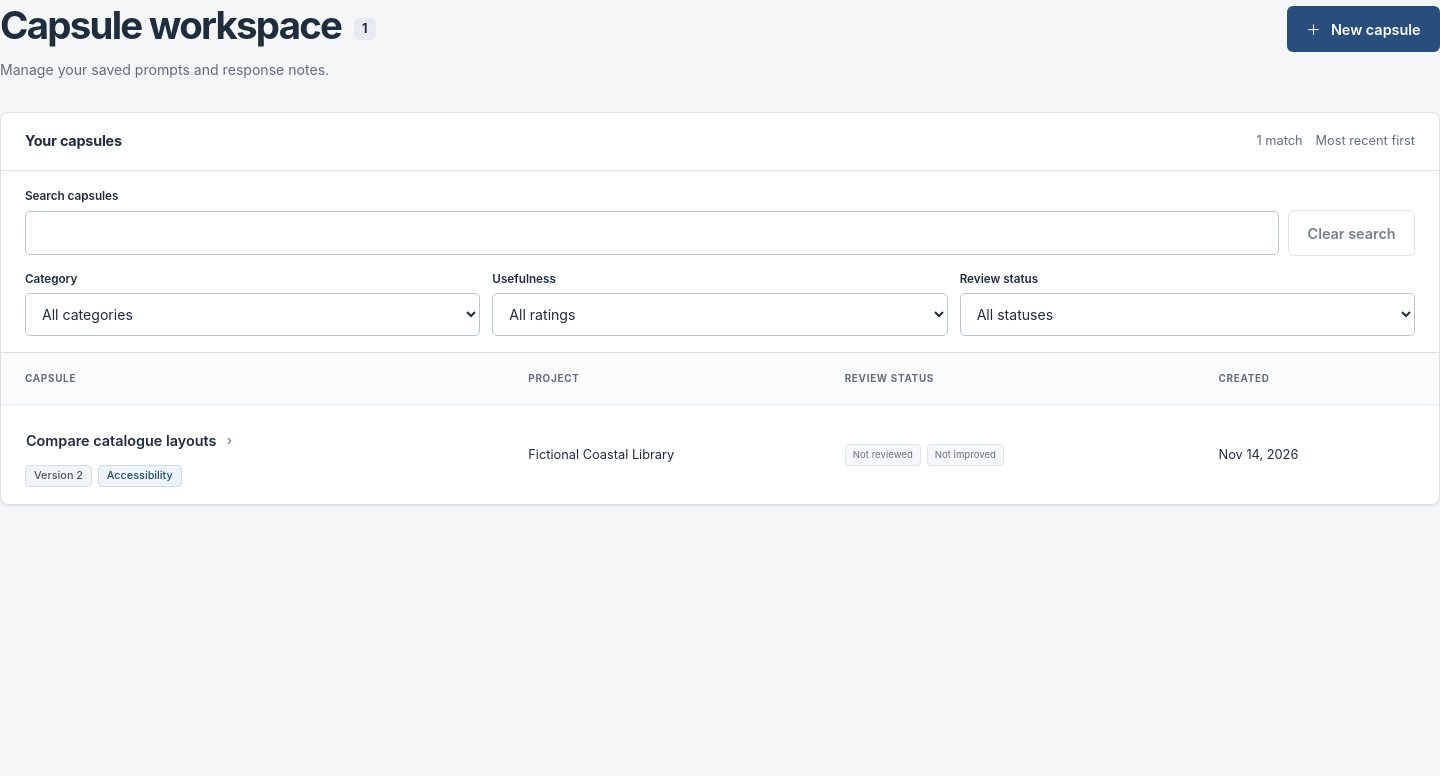
Test: capsule workspace › sends all writable values on edit, retaining optional text and false booleans
Click the button "Compare catalogue layouts ›": (129, 441) [25,423,233,459]
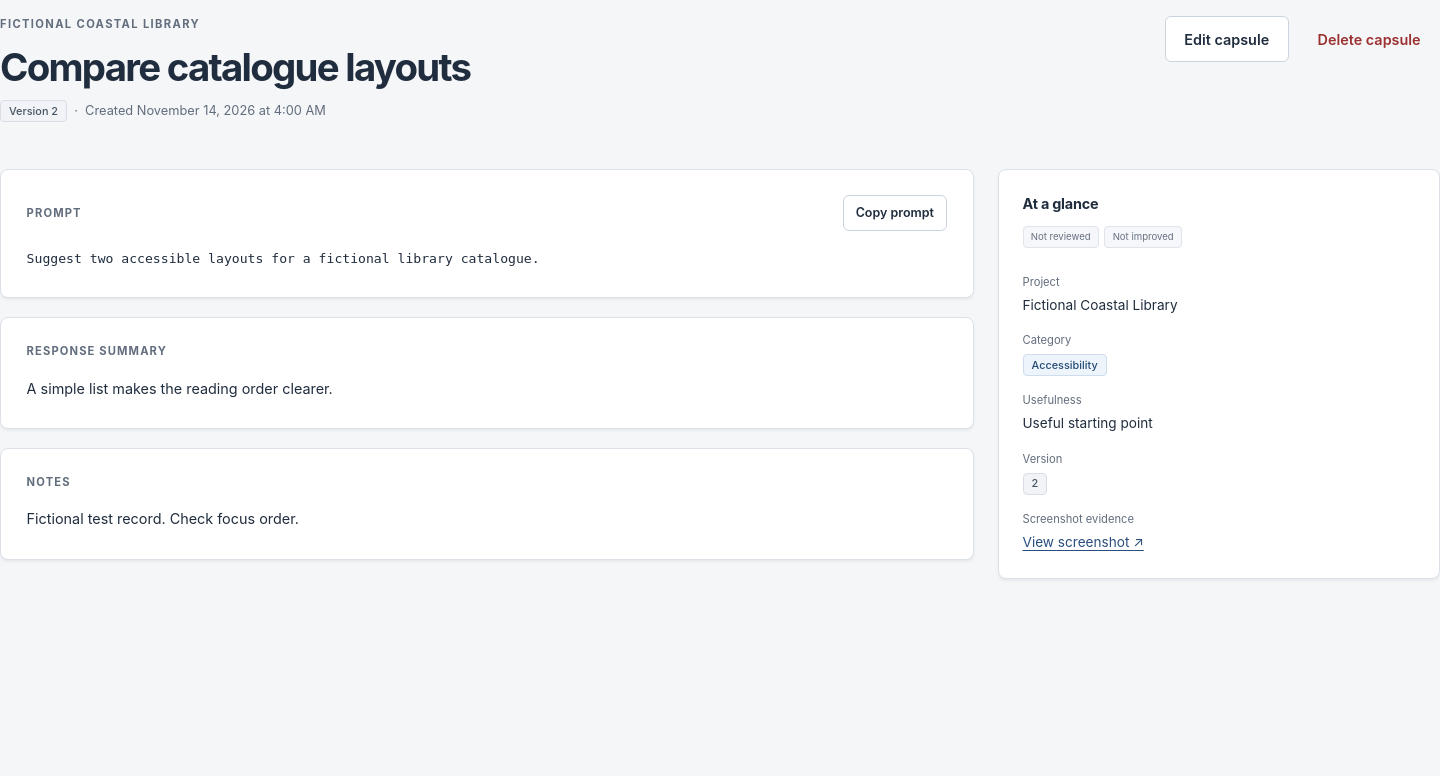
Click the button "Edit capsule": (1227, 39) [1165,16,1289,62]
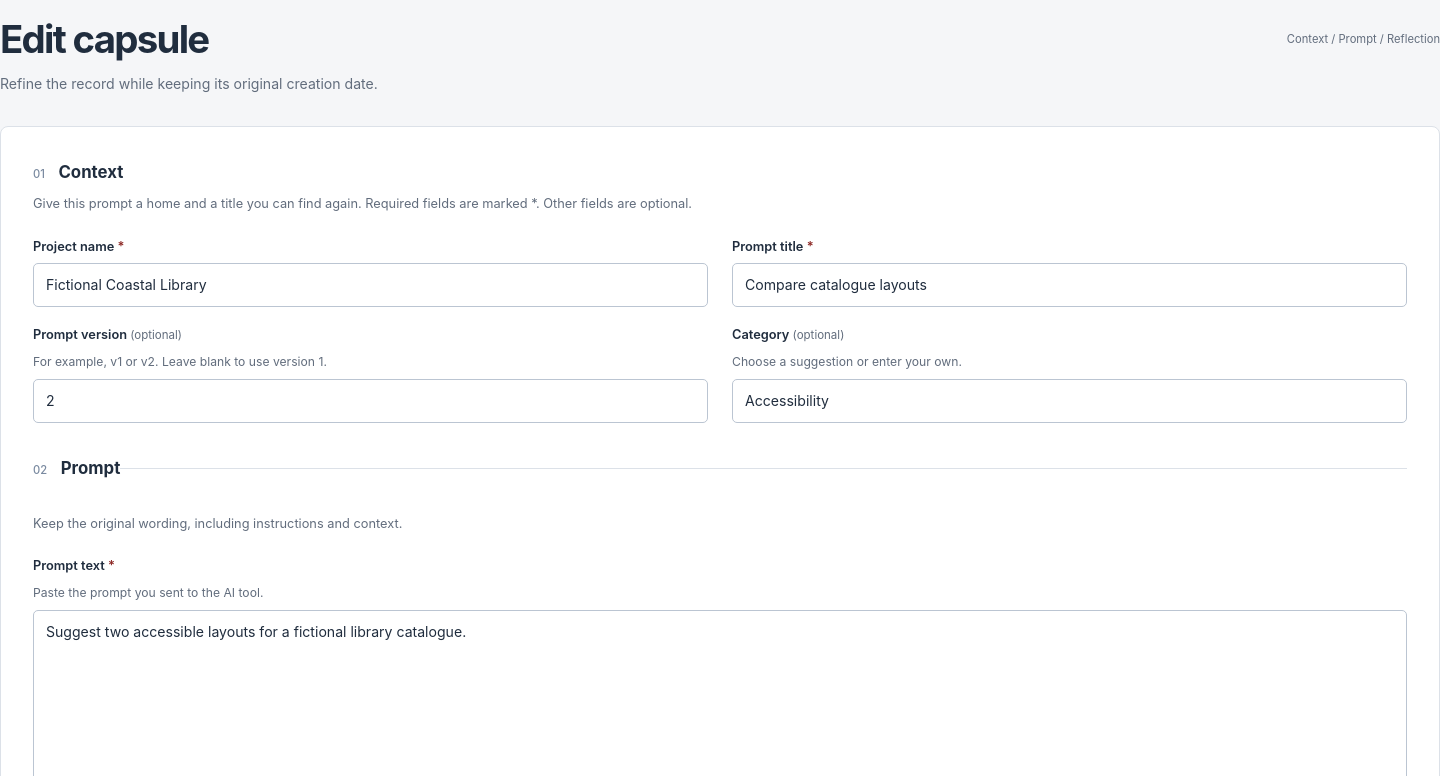
Replace the text in the field labelled "Prompt title *" with "Compare accessible catalogue layouts": (1070, 285) [732,263,1407,307]
(page scrolled)
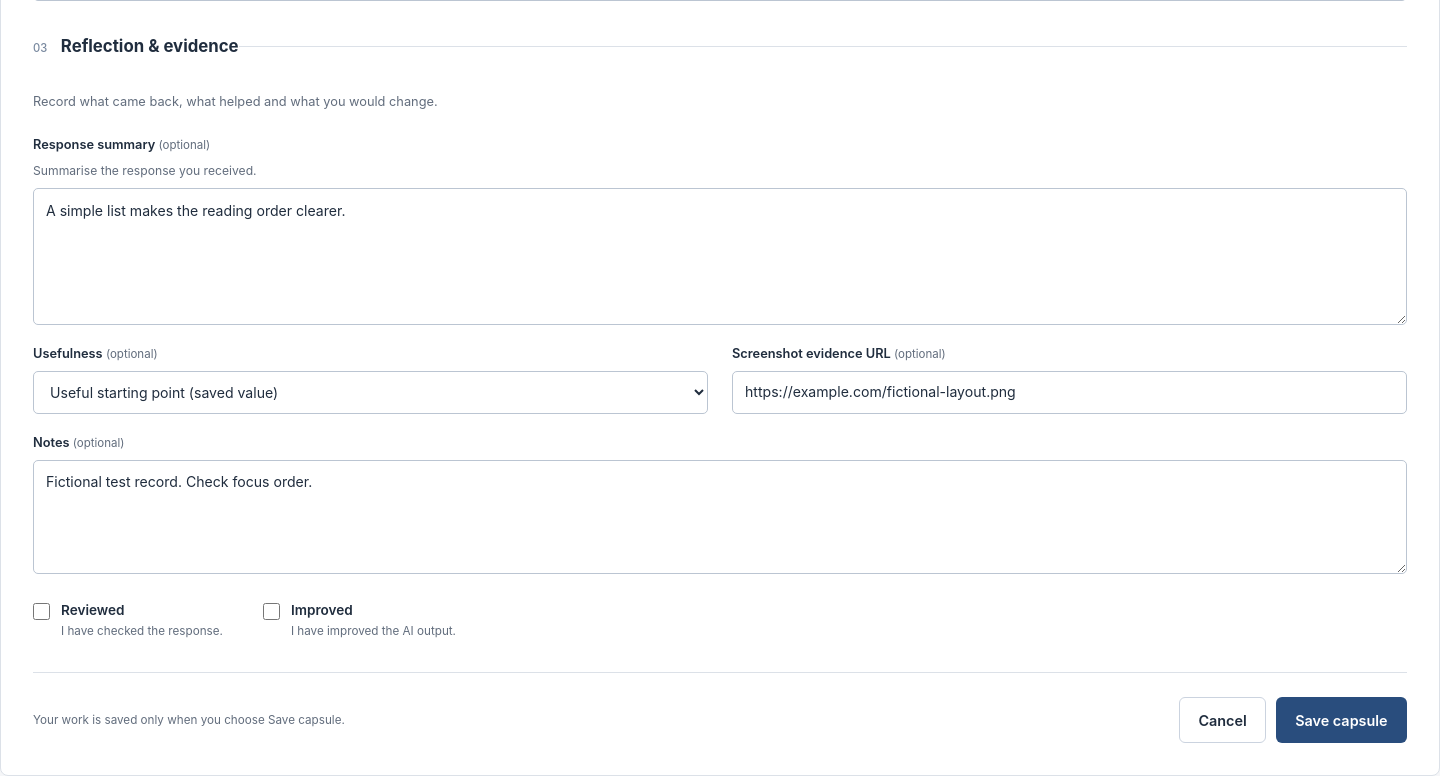
Click the button "Save capsule": (1341, 720) [1276,697,1407,743]
(page scrolled)
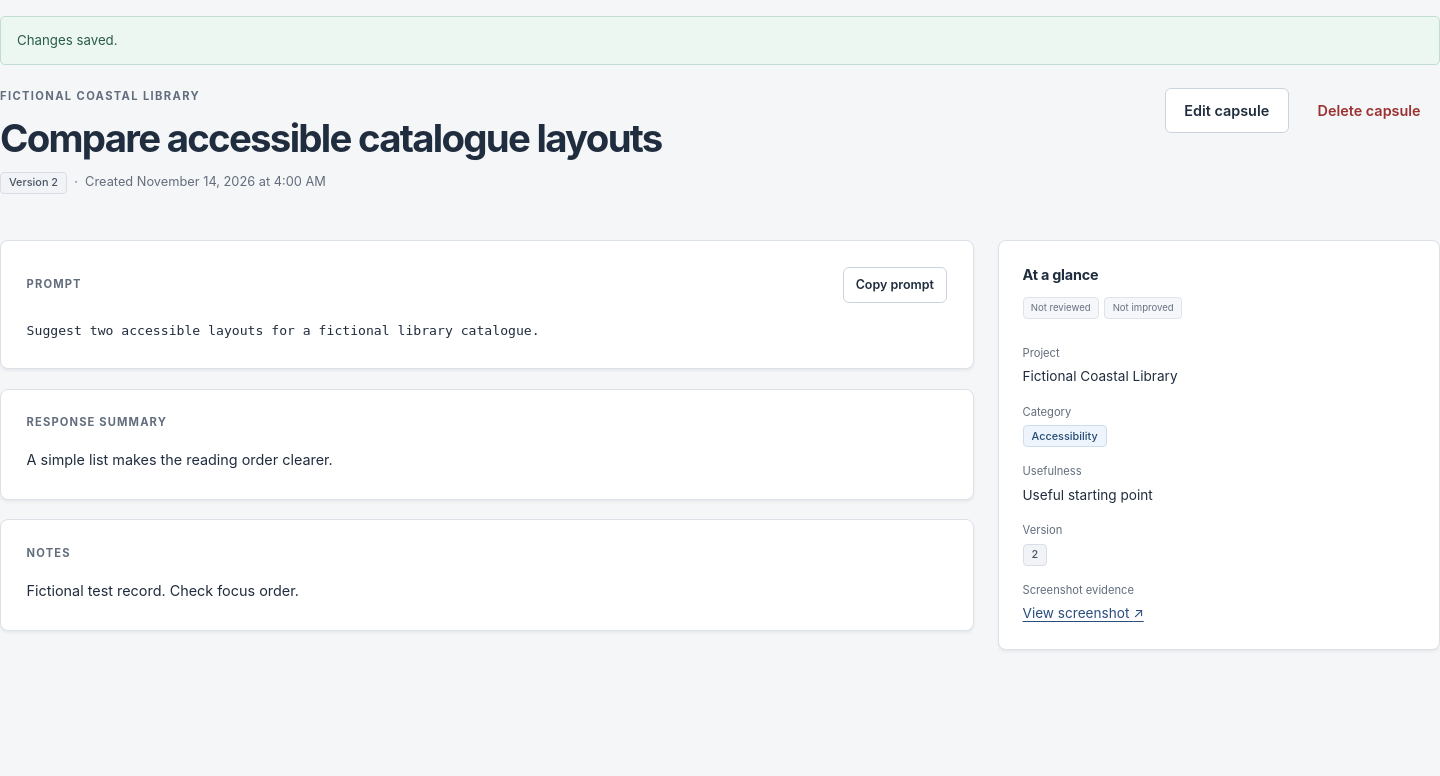
Expected: the heading "Compare accessible catalogue layouts" is shown, [0,115,662,161]
